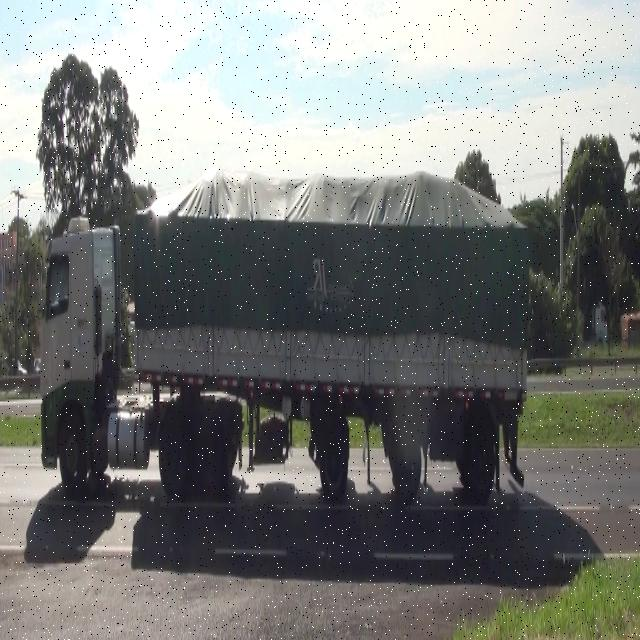-axle: (459, 407, 496, 509), (389, 420, 423, 508), (316, 425, 348, 503), (58, 412, 88, 493), (159, 424, 191, 499), (198, 416, 226, 494)
